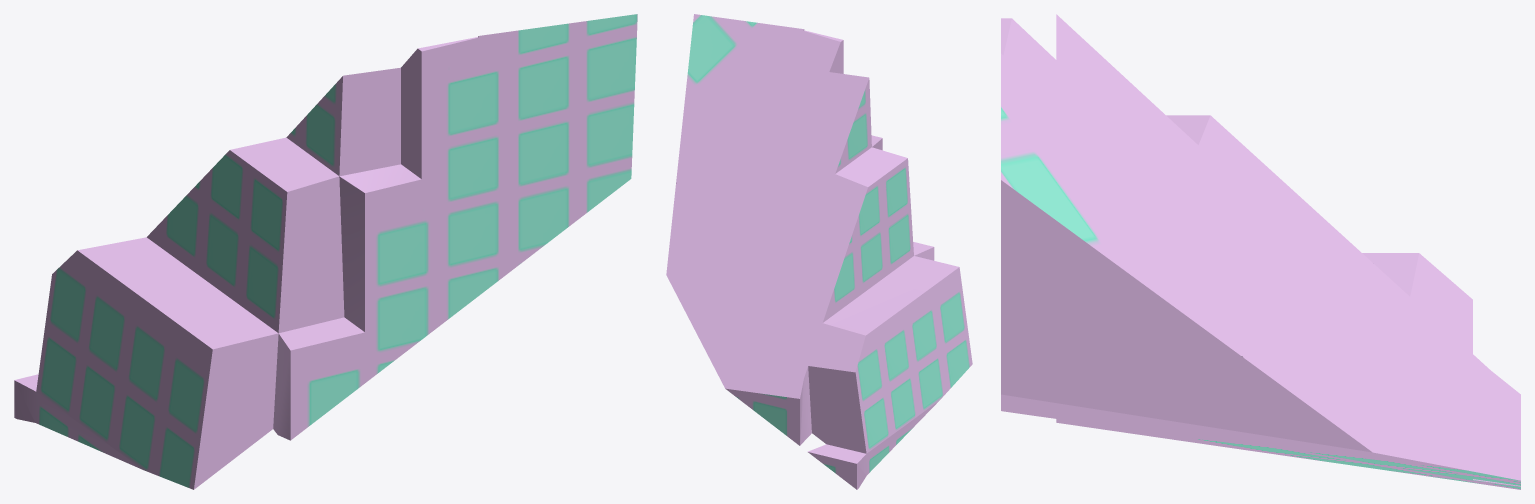
File: r1Shard5.fbx
3 renders of one model, left to right at view 1: azimuth 30°, elevation 25°; view 2: azimuth 150°, elevation 25°; view 3: azimuth 270°, elevation 25°, orthographic. The views are drawn at different scales.
Parts seen in each view (by area): view 1: shard78; view 2: shard78; view 3: shard78.
Part boxes in pixels (x1,y1,x2,y2): shard78: (14,14,637,489); shard78: (666,14,972,489); shard78: (1001,14,1520,489).
Size of the model in its own units: 0.1136 by 0.1157 by 0.0888.
Materials: 1 (1 with a texture image).
